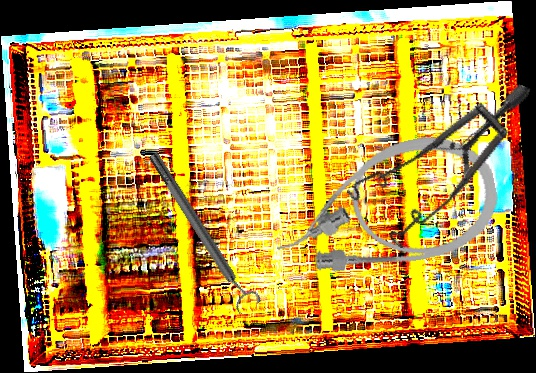Cannula: (261, 124, 507, 289)
Fixation Ring: (141, 145, 263, 317)
Speculum: (335, 39, 531, 271)
